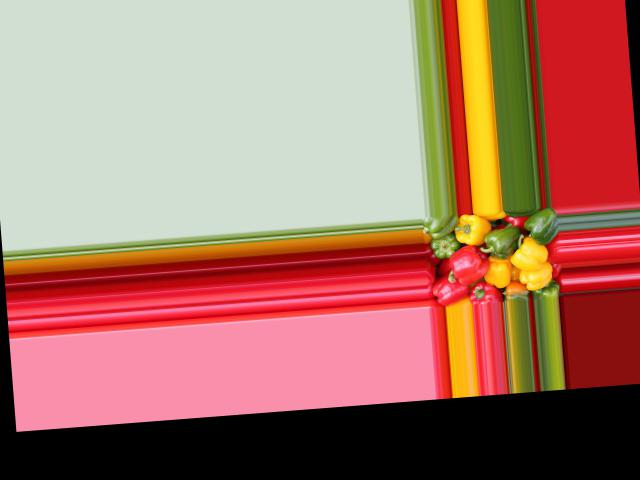bell_pepper: (528, 282, 559, 300)
